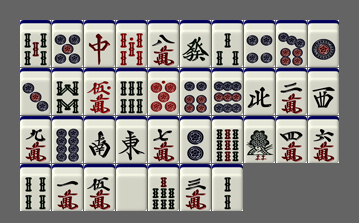0m: (84, 68, 115, 115)
0p: (148, 68, 179, 115)
0s: (116, 20, 147, 67)
1m: (52, 164, 83, 211)
1p: (308, 20, 339, 67)
1s: (244, 116, 275, 163)
1z: (116, 116, 147, 163)
2m: (276, 68, 307, 115)
2p: (180, 116, 211, 163)
2s: (212, 164, 243, 211)
2z: (84, 116, 115, 163)
3m: (180, 164, 211, 211)
3p: (20, 68, 51, 115)
3s: (212, 20, 243, 67)
3z: (308, 68, 339, 115)
4m: (276, 116, 307, 163)
4p: (244, 20, 275, 67)
4s: (20, 164, 51, 211)
4z: (244, 68, 275, 115)
5m: (84, 164, 115, 211)
5p: (52, 20, 83, 67)
5s: (20, 20, 51, 67)
5z: (116, 164, 147, 211)
6m: (308, 116, 339, 163)
6p: (180, 68, 211, 115)
6s: (116, 68, 147, 115)
6z: (180, 20, 211, 67)
7m: (148, 116, 179, 163)
7p: (276, 20, 307, 67)
7s: (148, 164, 179, 211)
7z: (84, 20, 115, 67)
8m: (148, 20, 179, 67)
8p: (52, 116, 83, 163)
8s: (52, 68, 83, 115)
9m: (20, 116, 51, 163)
9p: (212, 68, 243, 115)
9s: (212, 116, 243, 163)
